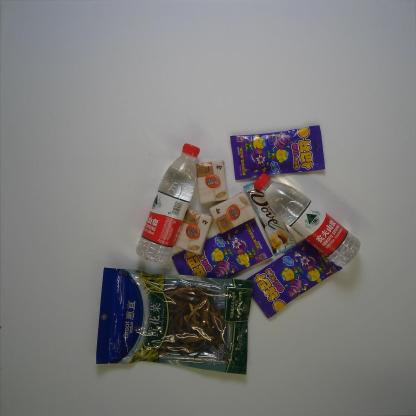Candy: (241, 230, 343, 319), (169, 216, 274, 292), (229, 123, 326, 182)
Chocolate: (242, 176, 298, 256)
Dried Food: (93, 267, 255, 376)
Drink: (251, 170, 362, 268), (136, 141, 200, 266)
Tissue: (208, 190, 258, 233), (172, 208, 214, 256), (195, 160, 229, 206)
